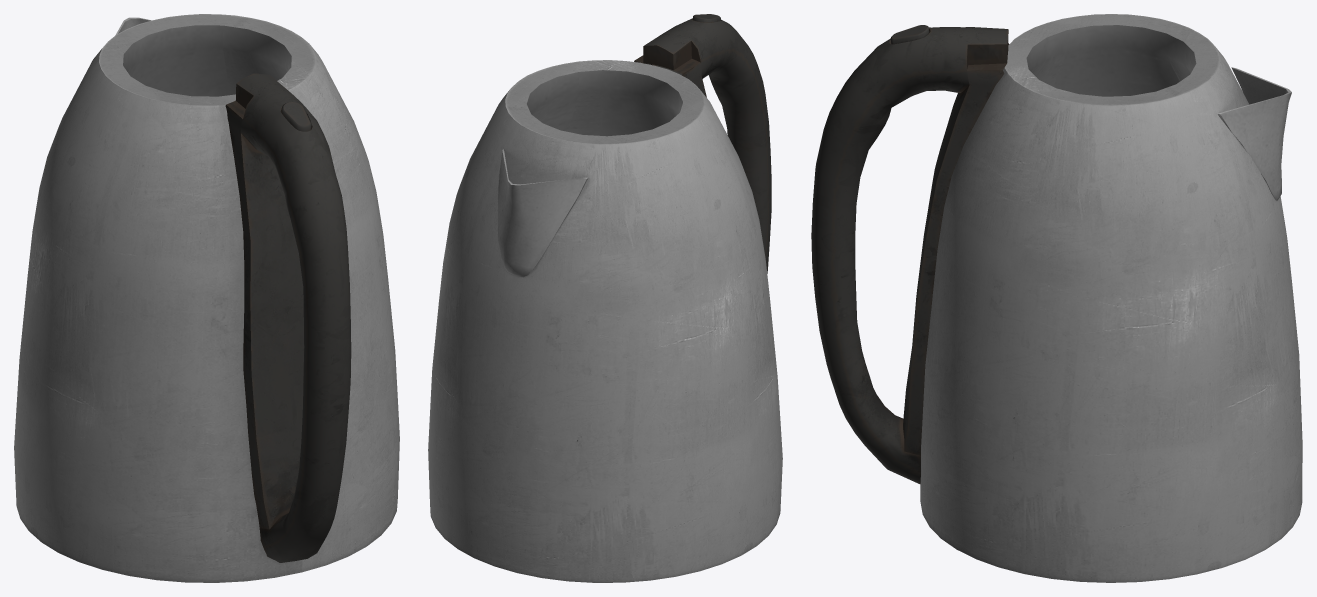
Rendered from SM_Teapod_A1.fbx.
3 renders of one model, left to right at view 1: azimuth 30°, elevation 25°; view 2: azimuth 150°, elevation 25°; view 3: azimuth 270°, elevation 25°, orthographic. The views are drawn at different scales.
Parts seen in each view (by area): view 1: SM_Teapod_A1; view 2: SM_Teapod_A1; view 3: SM_Teapod_A1.
Part boxes in pixels (<box>): SM_Teapod_A1: <box>14,14,399,582</box>; SM_Teapod_A1: <box>428,14,782,582</box>; SM_Teapod_A1: <box>811,14,1302,582</box>.
Bounding box in the file's own units: 17.11 × 21.74 × 22.95.
Materials: 1 (1 with a texture image).
